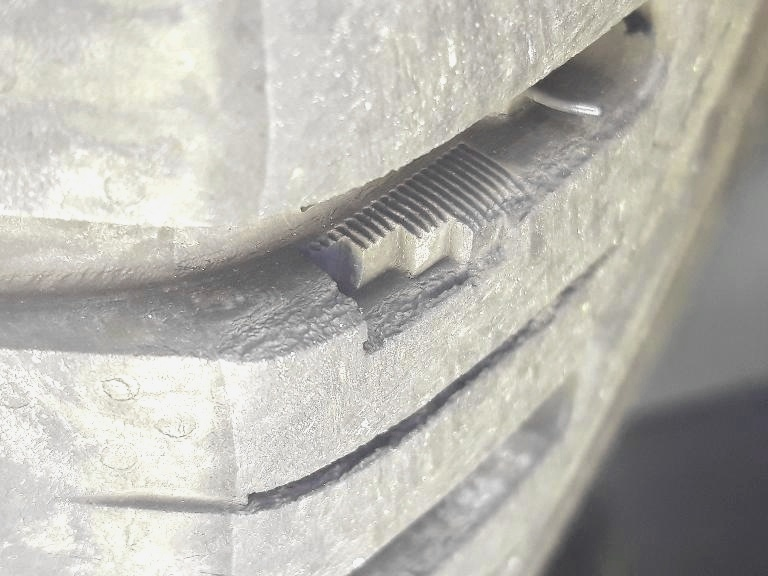temoin:80: (287, 134, 550, 374)
